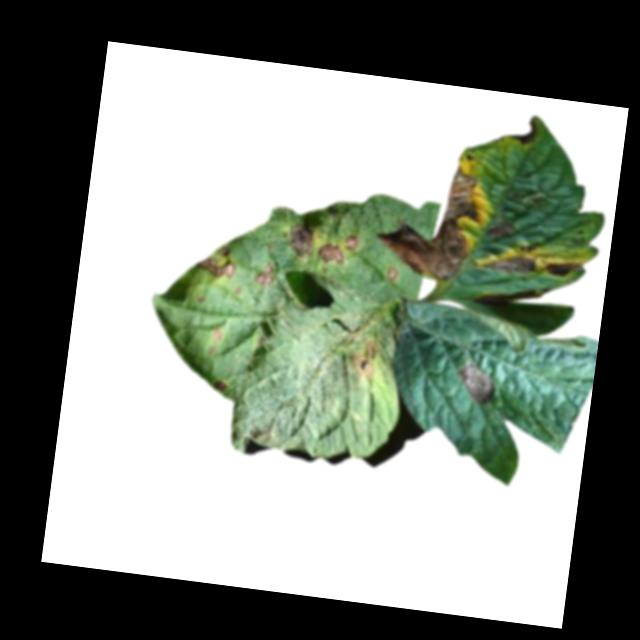Early_blight: (372, 153, 488, 283), (453, 357, 502, 403), (196, 240, 239, 282), (345, 336, 382, 383), (480, 249, 540, 275), (288, 222, 316, 258), (487, 216, 518, 242), (317, 242, 349, 267), (510, 117, 539, 143), (544, 258, 578, 280), (255, 259, 277, 289), (345, 233, 364, 252), (385, 264, 400, 281), (215, 377, 228, 394)
